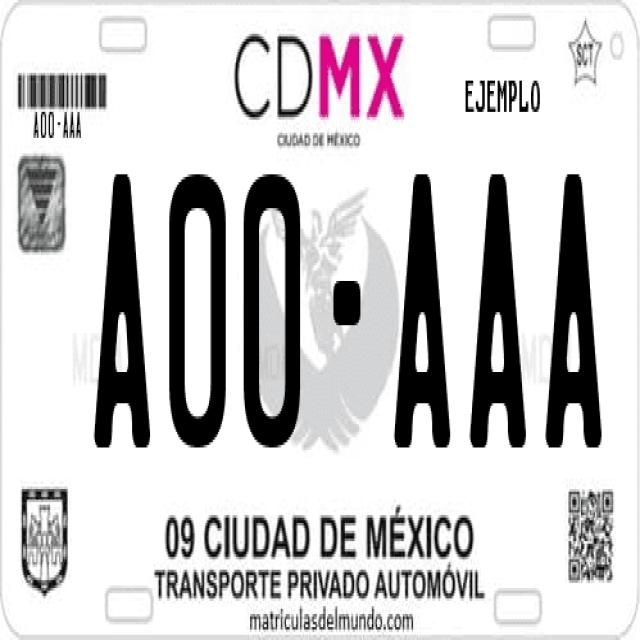placa: (77, 144, 632, 482)
